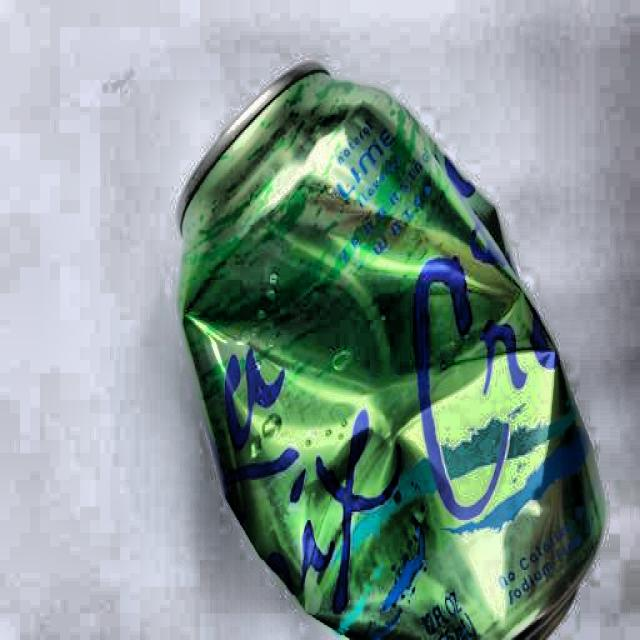metal: (170, 59, 608, 640)
